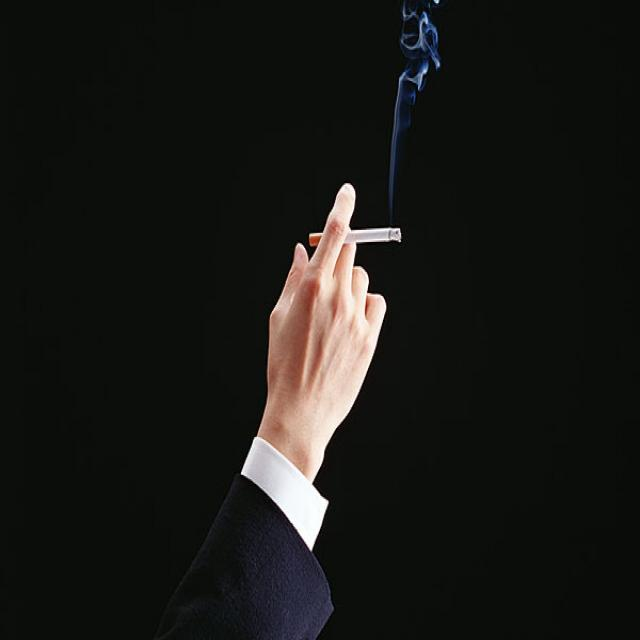smoke: (305, 224, 404, 246)
